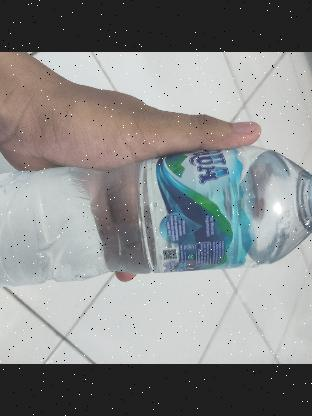Plastic Bottle: (0, 142, 312, 294)
